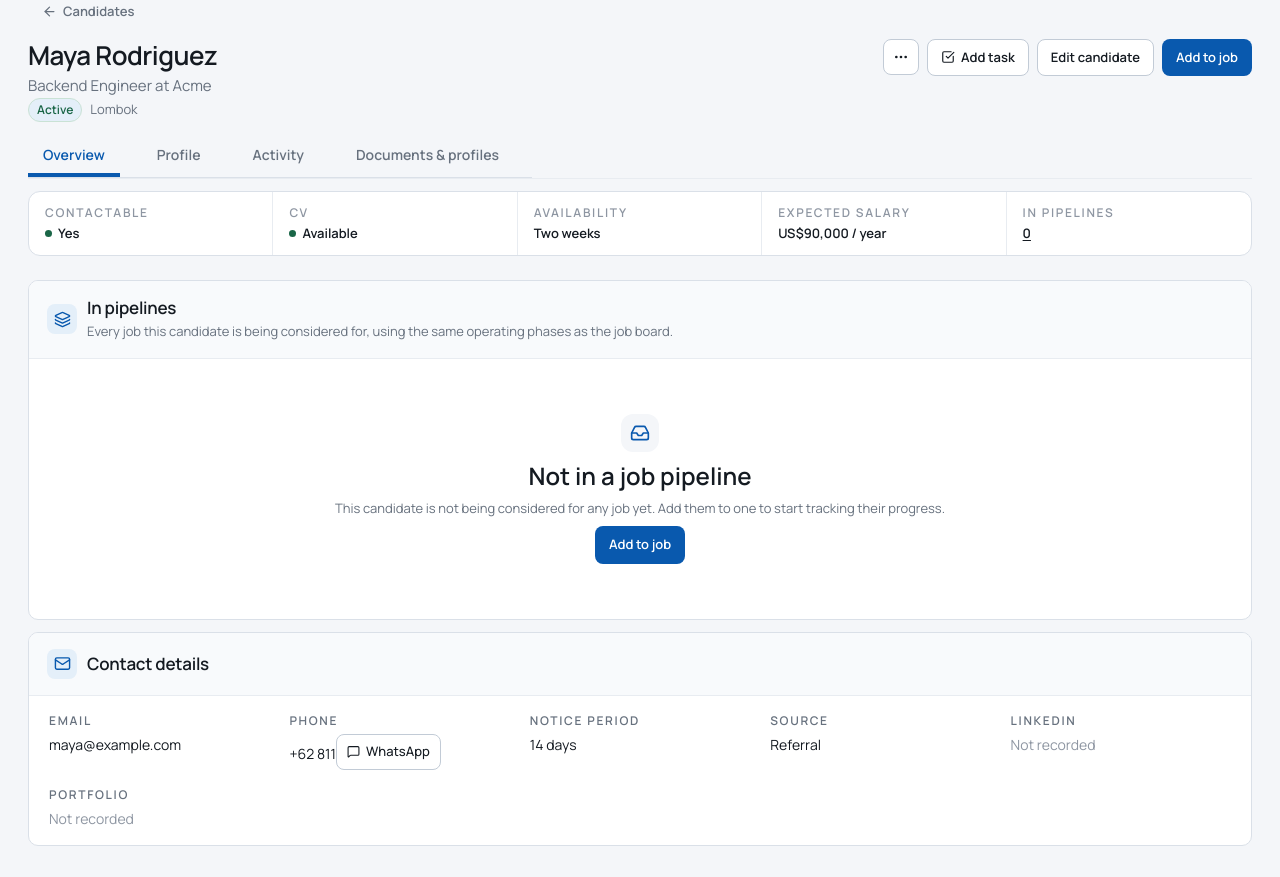
Test: CandidateDetailPage › replaces the tab content with the shared candidate form and hides the tab bar
Click the button "Edit candidate" at {"x": 1095, "y": 57}, box [1037,38,1154,76]
(page scrolled)
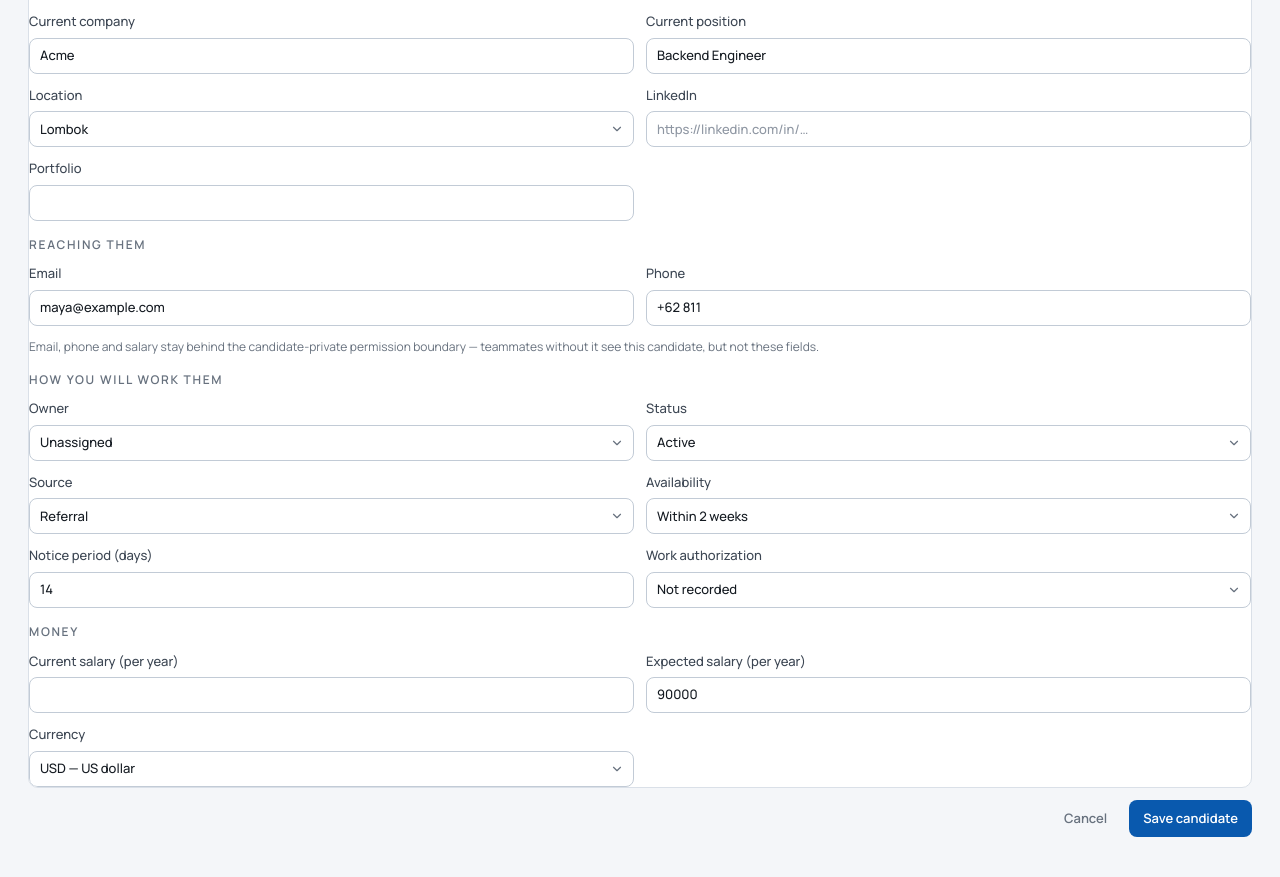
Expected: the heading "Reaching them" is shown, [29,236,146,253]
Expected: the heading "Money" is shown, [29,623,79,640]
Expected: the tab "Profile" is gone
